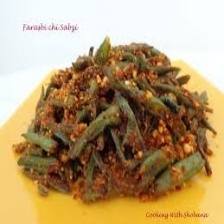sabzi: (10, 33, 220, 207)
